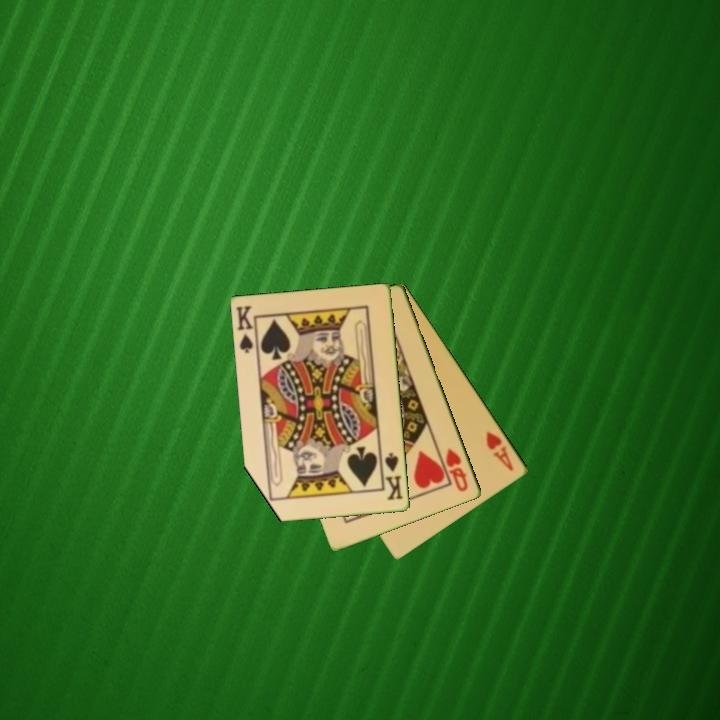Ah: (483, 427, 517, 474)
Ks: (233, 302, 261, 357), (382, 449, 406, 503)
Qh: (442, 445, 471, 495)
